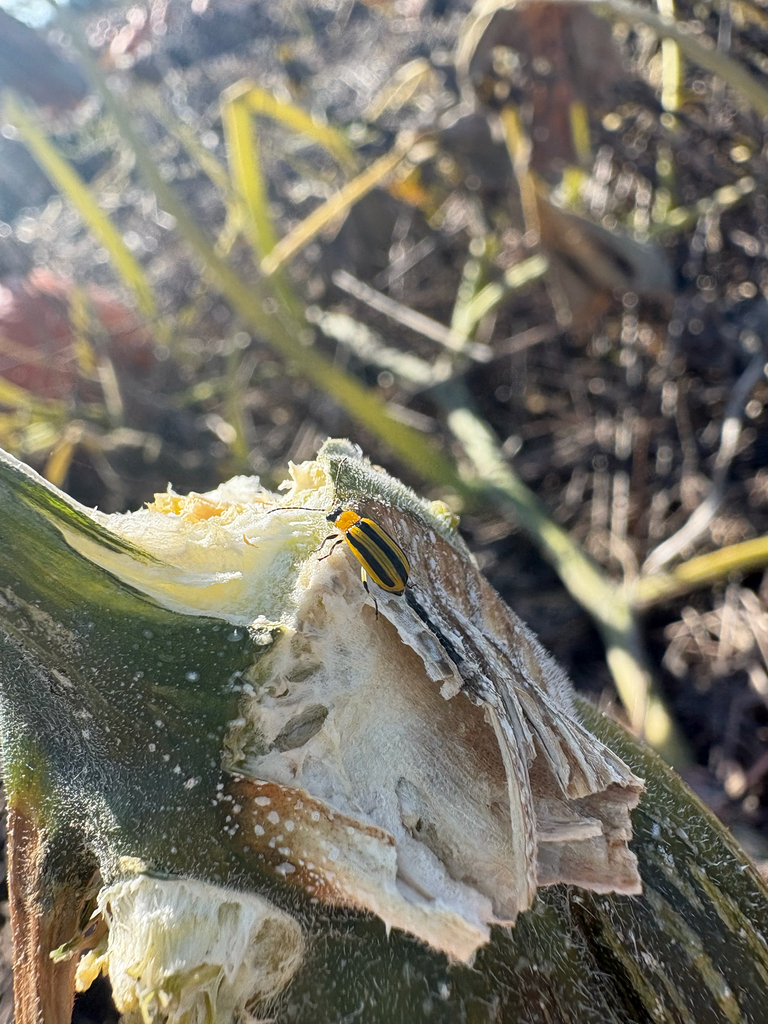potato_beetle: (241, 430, 453, 646)
